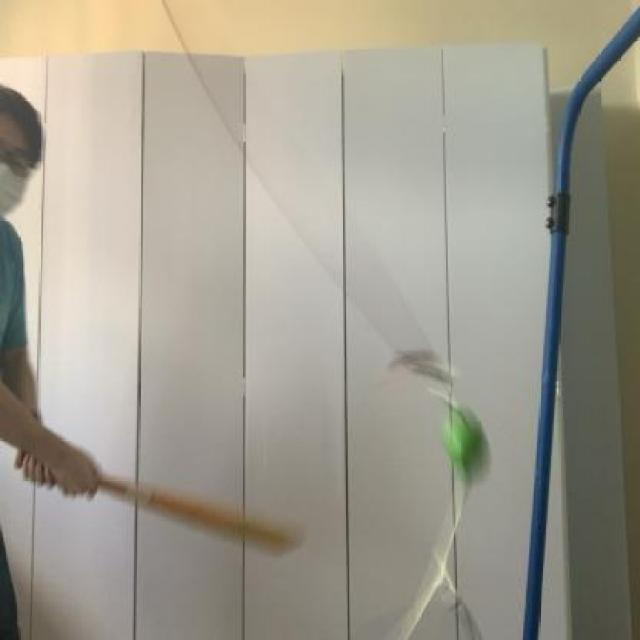baseball: (431, 397, 495, 491)
